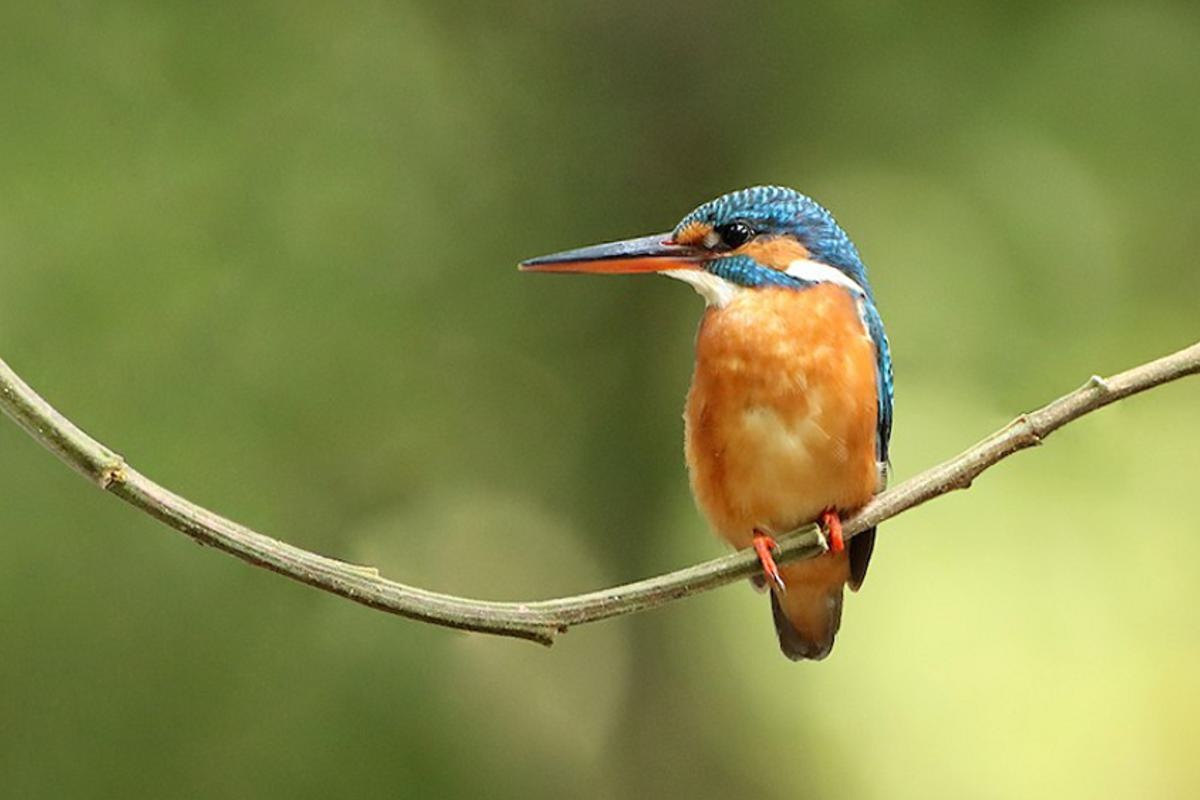kingfisher: (525, 177, 897, 693)
